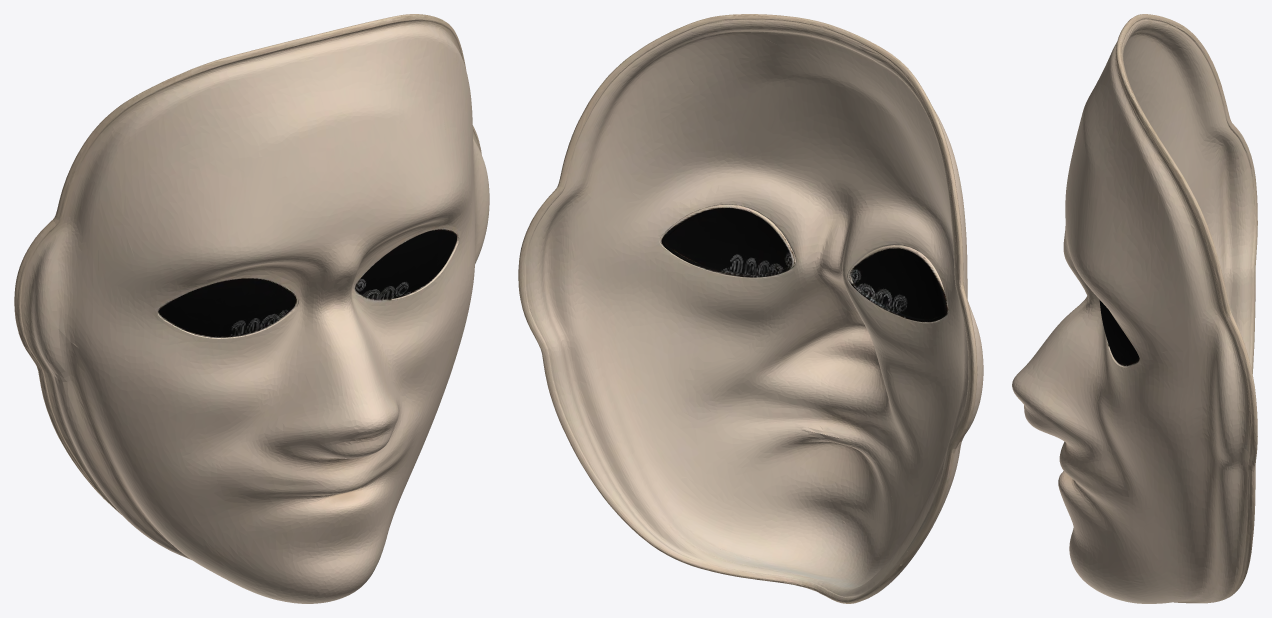
The model's file is masque sans les yeux.glb.
3 renders of one model, left to right at view 1: azimuth 30°, elevation 25°; view 2: azimuth 150°, elevation 25°; view 3: azimuth 270°, elevation 25°, orthographic. The views are drawn at different scales.
Visible parts, largest first — view 1: node_0; view 2: node_0; view 3: node_0.
Boxes of the visible parts, x1,y1,x2,y2 form: node_0: [14, 14, 489, 603]; node_0: [518, 14, 983, 603]; node_0: [1012, 14, 1257, 603].
Bounding box in the file's own units: 1.01 × 1.17 × 0.4821.
1 material, 1 textured.
